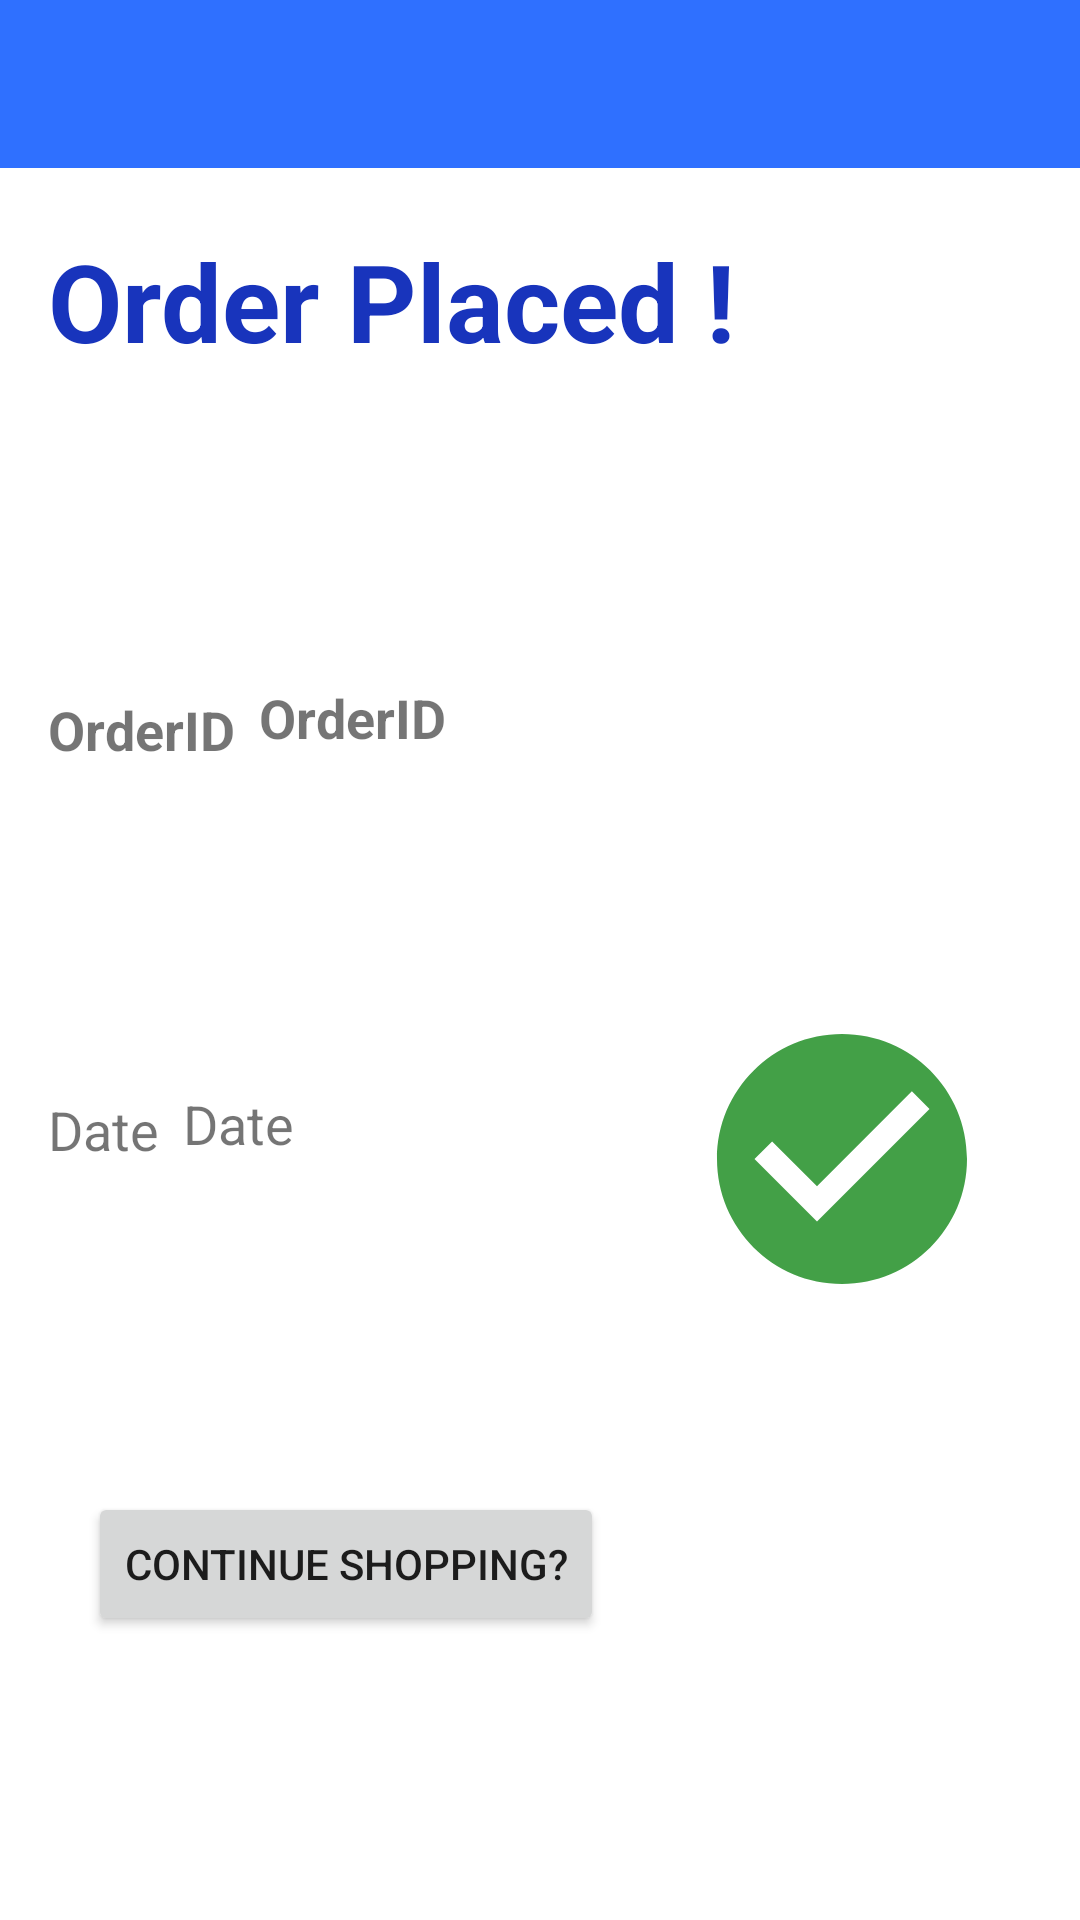

Where to tap for icons on this 1080 x 1920 app screen, as [x,y]:
checked: [842,1159]
